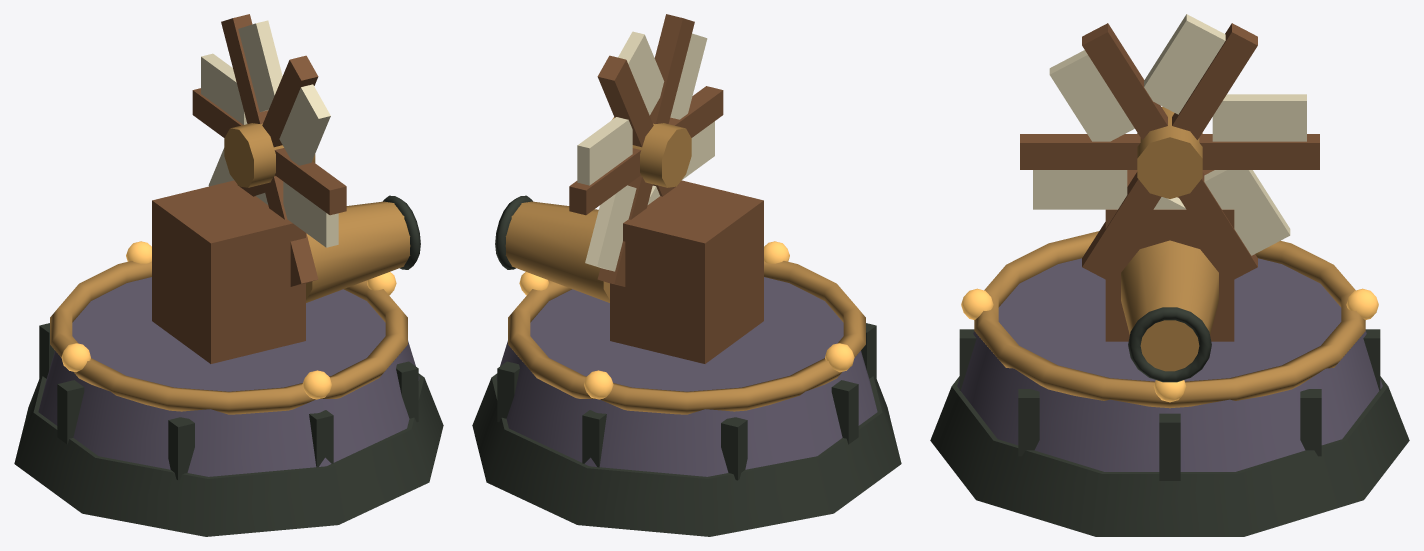
Rendered from tower_wind_windRotor.glb.
3 views of the same model, side by side, from view 1: azimuth 30°, elevation 25°; view 2: azimuth 150°, elevation 25°; view 3: azimuth 270°, elevation 25° (orthographic). The views are drawn at different scales.
Visible parts, largest first — view 1: stone_1, foot_0, mill_15, rim_2, air_nozzle_29, hub_16, sail_22, spar_23, sail_20, spar_21, sail_24, sail_18 (+11 smaller); view 2: stone_1, foot_0, mill_15, rim_2, air_nozzle_29, hub_16, spar_21, sail_18, spar_19, sail_28, spar_17, sail_20 (+12 smaller); view 3: stone_1, foot_0, rim_2, air_nozzle_29, mill_15, sail_18, sail_20, hub_16, spar_23, sail_28, sail_22, spar_21 (+13 smaller).
Boxes of the visible parts, x1=… form: stone_1: x1=38, y1=277, x2=419, y2=476; foot_0: x1=14, y1=373, x2=443, y2=536; mill_15: x1=152, y1=180, x2=305, y2=363; rim_2: x1=50, y1=261, x2=407, y2=414; air_nozzle_29: x1=306, y1=201, x2=410, y2=302; hub_16: x1=224, y1=123, x2=315, y2=187; sail_22: x1=279, y1=84, x2=330, y2=165; spar_23: x1=274, y1=148, x2=346, y2=215; sail_20: x1=238, y1=20, x2=282, y2=112; spar_21: x1=262, y1=55, x2=318, y2=147; sail_24: x1=283, y1=181, x2=338, y2=247; sail_18: x1=201, y1=53, x2=247, y2=124; stone_1: x1=496, y1=277, x2=877, y2=476; foot_0: x1=472, y1=373, x2=901, y2=536; mill_15: x1=610, y1=180, x2=763, y2=363; rim_2: x1=508, y1=261, x2=865, y2=414; air_nozzle_29: x1=505, y1=201, x2=609, y2=302; hub_16: x1=612, y1=117, x2=691, y2=187; spar_21: x1=650, y1=14, x2=694, y2=123; sail_18: x1=577, y1=117, x2=632, y2=185; spar_19: x1=597, y1=55, x2=653, y2=147; sail_28: x1=585, y1=185, x2=636, y2=271; spar_17: x1=569, y1=148, x2=641, y2=215; sail_20: x1=618, y1=31, x2=664, y2=115; stone_1: x1=957, y1=258, x2=1382, y2=471; foot_0: x1=930, y1=376, x2=1409, y2=536; rim_2: x1=974, y1=231, x2=1365, y2=408; air_nozzle_29: x1=1121, y1=240, x2=1218, y2=371; mill_15: x1=1105, y1=170, x2=1234, y2=341; sail_18: x1=1212, y1=94, x2=1306, y2=141; sail_20: x1=1144, y1=14, x2=1225, y2=114; hub_16: x1=1137, y1=106, x2=1202, y2=198; spar_23: x1=1020, y1=134, x2=1140, y2=169; sail_28: x1=1204, y1=170, x2=1290, y2=255; sail_22: x1=1049, y1=50, x2=1134, y2=141; spar_21: x1=1082, y1=23, x2=1167, y2=139.
Bounding box in the file's own units: 0.5326 × 0.5736 × 0.56.
